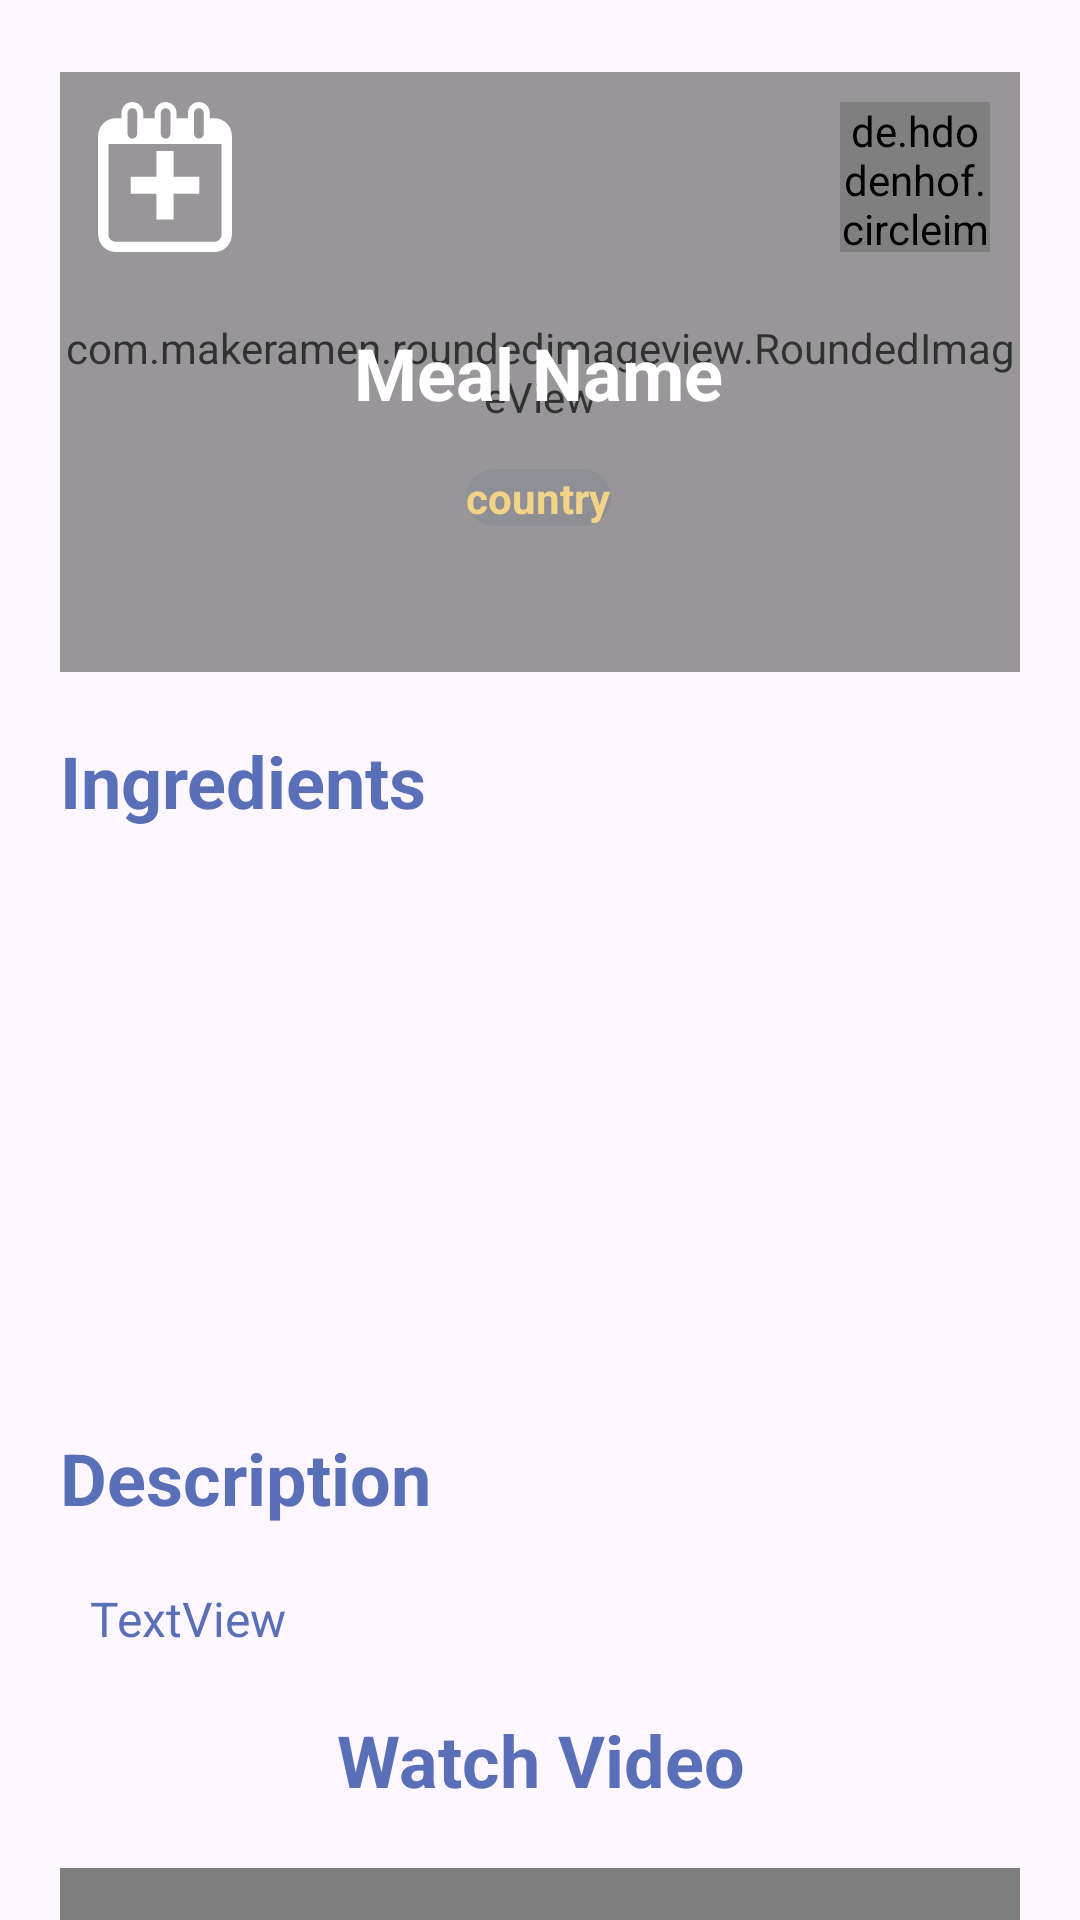

Icon bounding boxes for this 1080x1920 phone screenshot, format (left=x1, top=y1, right=x2, bottom=y2):
calender border: (left=98, top=102, right=232, bottom=252)
